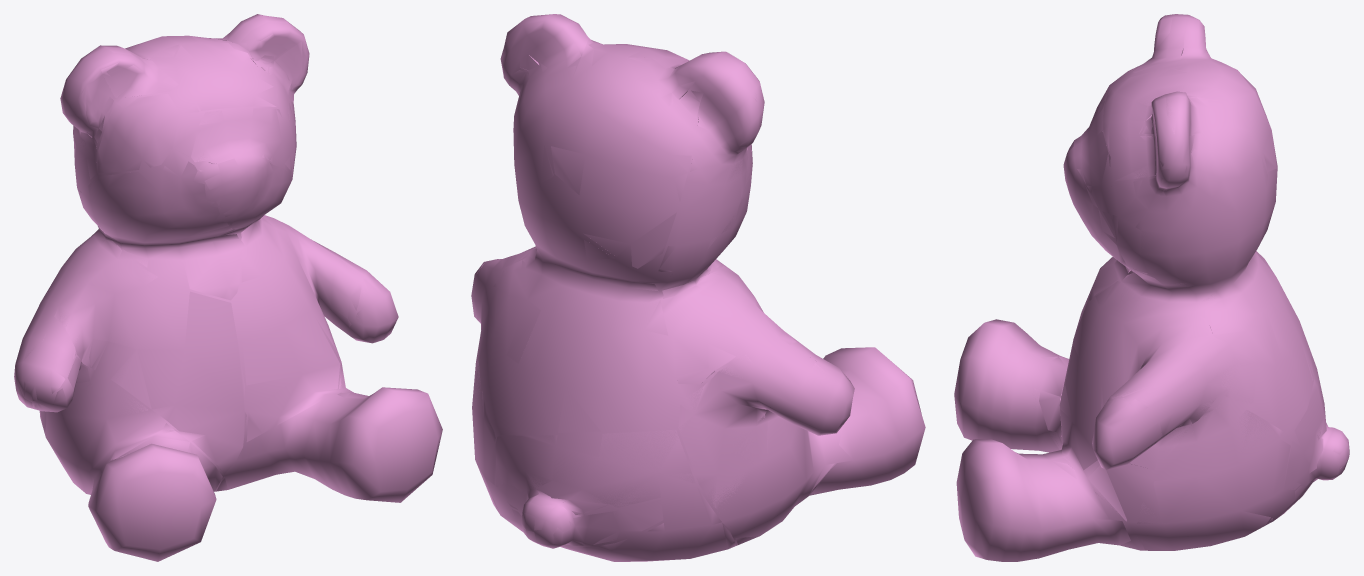
File: teddy.fbx
The picture shows the model from 3 angles, left to right: view 1: azimuth 30°, elevation 25°; view 2: azimuth 150°, elevation 25°; view 3: azimuth 270°, elevation 25°; orthographic projection. The views are drawn at different scales.
Visible parts, largest first — view 1: teddy, teddy_cell.026, teddy_cell.012, teddy_cell.016, teddy_cell.010, teddy_cell.005, teddy_cell.013, teddy_cell.002, teddy_cell.003, teddy_cell.021, teddy_cell.004, teddy_cell.030 (+6 smaller); view 2: teddy, teddy_cell.019, teddy_cell.020, teddy_cell.011, teddy_cell.009, teddy_cell.024, teddy_cell.023, teddy_cell.018, teddy_cell.026, teddy_cell.006, teddy_cell.028, teddy_cell.021 (+5 smaller); view 3: teddy, teddy_cell.012, teddy_cell.008, teddy_cell.003, teddy_cell.006, teddy_cell.005, teddy_cell.011, teddy_cell.019, teddy_cell.027, teddy_cell.013, teddy_cell.030, teddy_cell.002 (+9 smaller).
Part boxes in pixels (box(x1,y1,x2,y2)): teddy: box(16, 14, 442, 561); teddy_cell.026: box(49, 226, 246, 474); teddy_cell.012: box(241, 214, 361, 441); teddy_cell.016: box(85, 161, 239, 300); teddy_cell.010: box(98, 93, 199, 172); teddy_cell.005: box(175, 36, 276, 110); teddy_cell.013: box(198, 158, 290, 229); teddy_cell.002: box(191, 108, 290, 170); teddy_cell.003: box(216, 392, 438, 501); teddy_cell.021: box(34, 356, 222, 494); teddy_cell.004: box(101, 47, 178, 97); teddy_cell.030: box(351, 278, 397, 343); teddy: box(471, 14, 925, 561); teddy_cell.019: box(495, 430, 695, 514); teddy_cell.020: box(678, 355, 853, 526); teddy_cell.011: box(811, 355, 925, 494); teddy_cell.009: box(498, 487, 736, 561); teddy_cell.024: box(583, 90, 703, 268); teddy_cell.023: box(523, 500, 663, 548); teddy_cell.018: box(558, 240, 668, 432); teddy_cell.026: box(662, 264, 798, 384); teddy_cell.006: box(493, 256, 544, 363); teddy_cell.028: box(551, 57, 695, 194); teddy_cell.021: box(735, 416, 834, 544); teddy: box(954, 14, 1349, 561); teddy_cell.012: box(1060, 270, 1217, 470); teddy_cell.008: box(1137, 398, 1290, 550); teddy_cell.003: box(965, 449, 1130, 561); teddy_cell.006: box(1202, 288, 1283, 403); teddy_cell.005: box(1103, 69, 1211, 150); teddy_cell.011: box(962, 345, 1059, 452); teddy_cell.019: box(1284, 369, 1326, 489); teddy_cell.027: box(1133, 136, 1267, 275); teddy_cell.013: box(1063, 140, 1129, 268); teddy_cell.030: box(1092, 398, 1160, 469); teddy_cell.002: box(1077, 101, 1113, 230).
Size of the model in its own units: 39.07 by 46.08 by 36.4.
